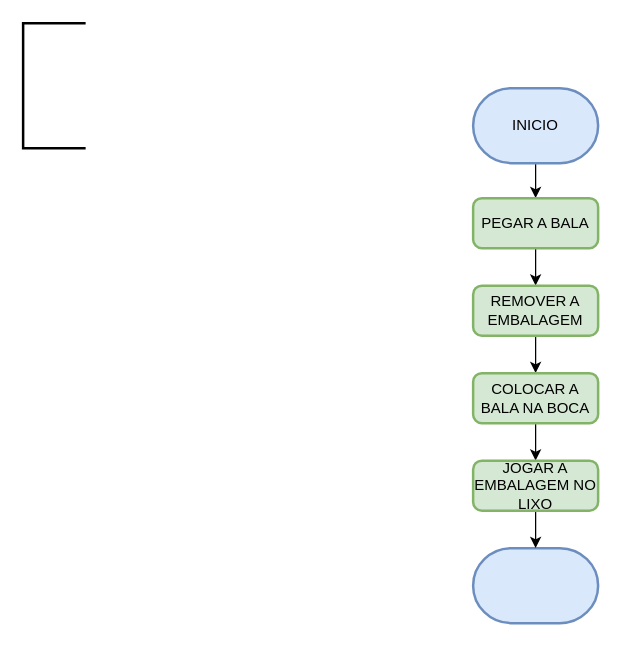
Some shapes in this 620 by 645 pixel diagram are drawn without their labels. The shapes that lost their labels are listed below. From the top down, each one's box as (x1, y1, x2, y2) in pixels, then its label:
(21, 21, 86, 149): Objetivo: Chupar uma bala
(471, 546, 599, 624): FIM
